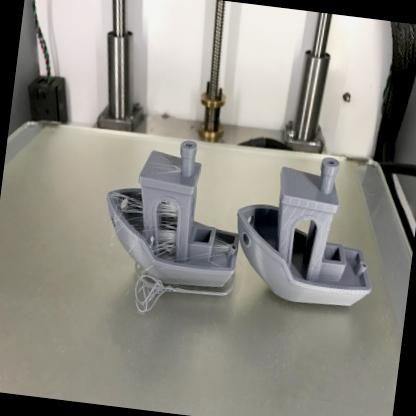fail: (131, 274, 169, 318), (157, 221, 179, 252), (125, 197, 144, 219), (211, 237, 228, 259), (158, 202, 178, 220)
